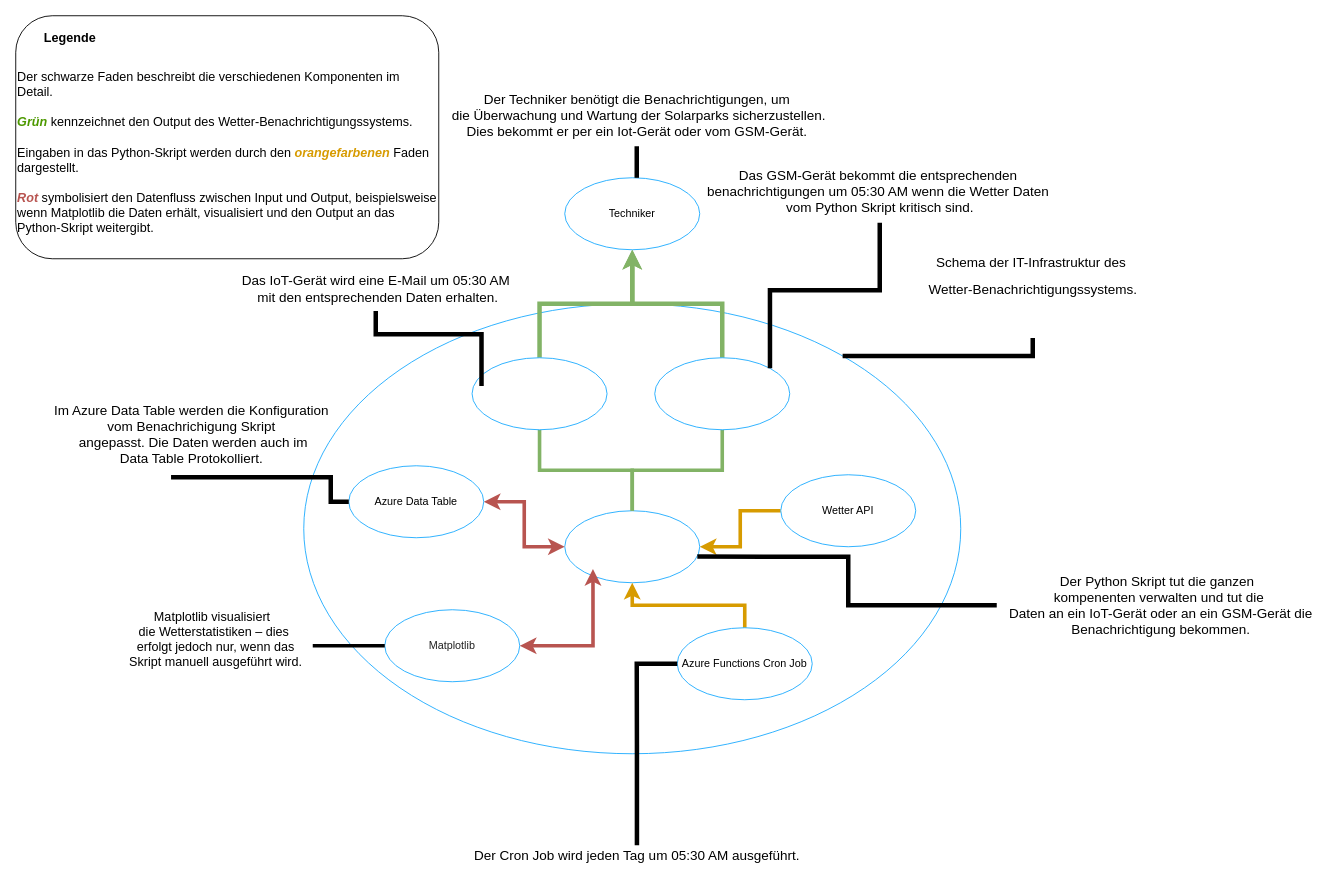
This 1337x885 diagram has some shape labels left out. Here are the shapes that lost their labels. From the top down, the centre of each, then its label:
point 539,393: IoT-Gerät
point 722,393: GSM-Gerät
point 632,546: Python Skirpt
